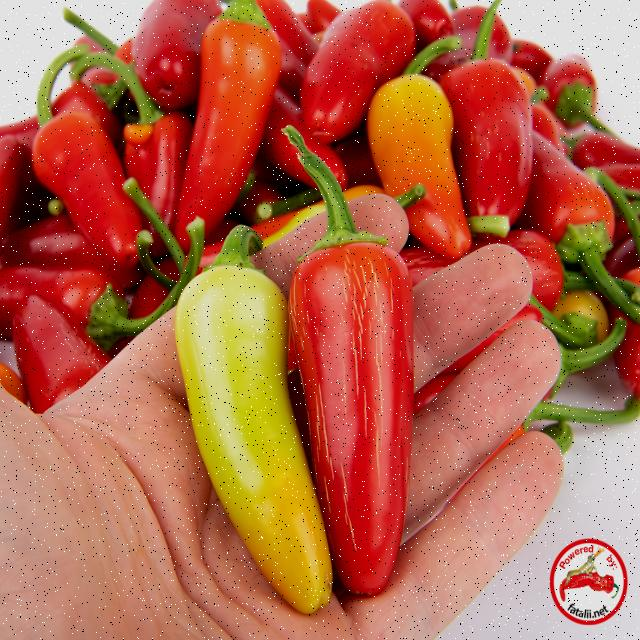Chili Pepper: (180, 247, 331, 607), (289, 143, 405, 601), (23, 116, 150, 287), (200, 15, 272, 250)
